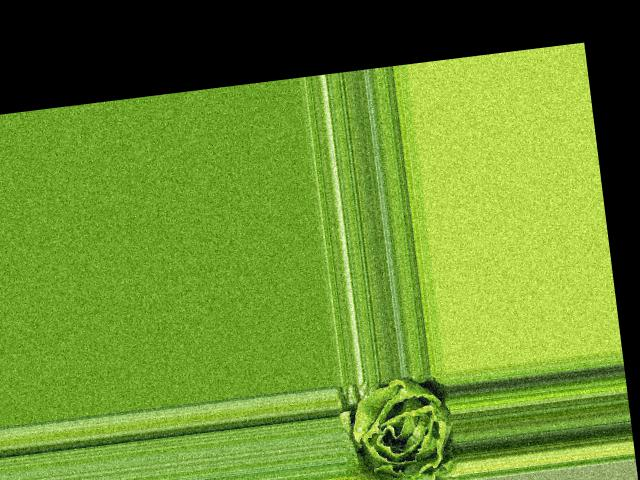lettuce: (335, 373, 458, 480)
